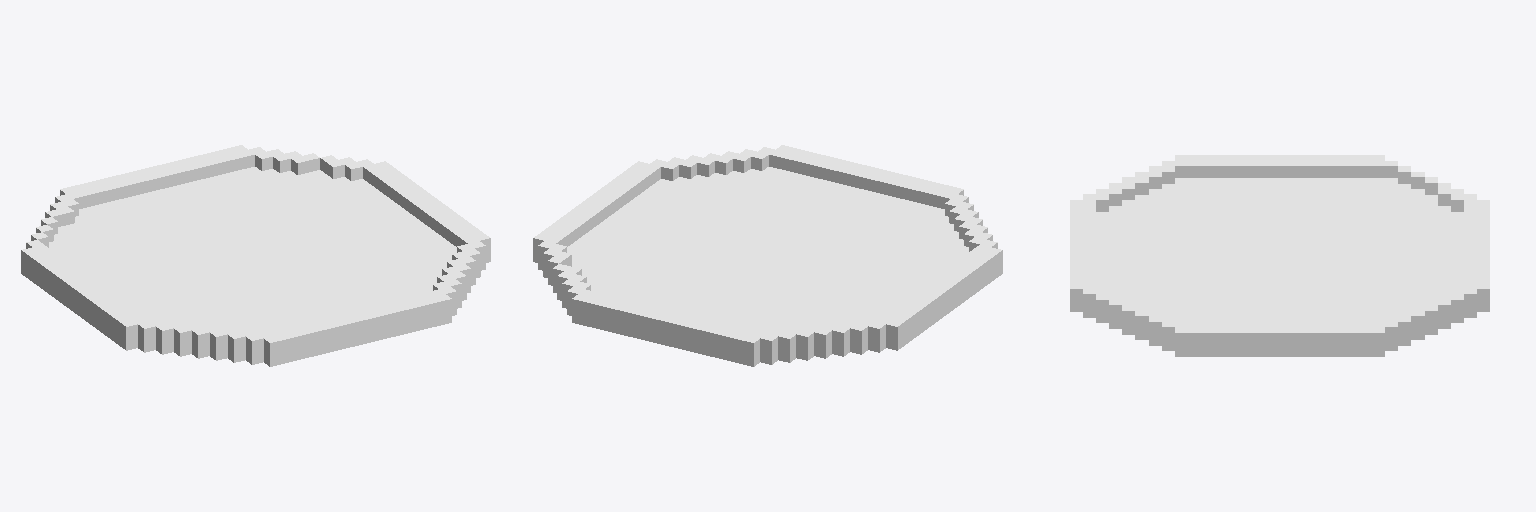
File: door_portal.obj
3 views of the same model, side by side, from view 1: azimuth 30°, elevation 25°; view 2: azimuth 150°, elevation 25°; view 3: azimuth 270°, elevation 25° (orthographic).
Bounding box in the file's own units: 32 × 2 × 32.